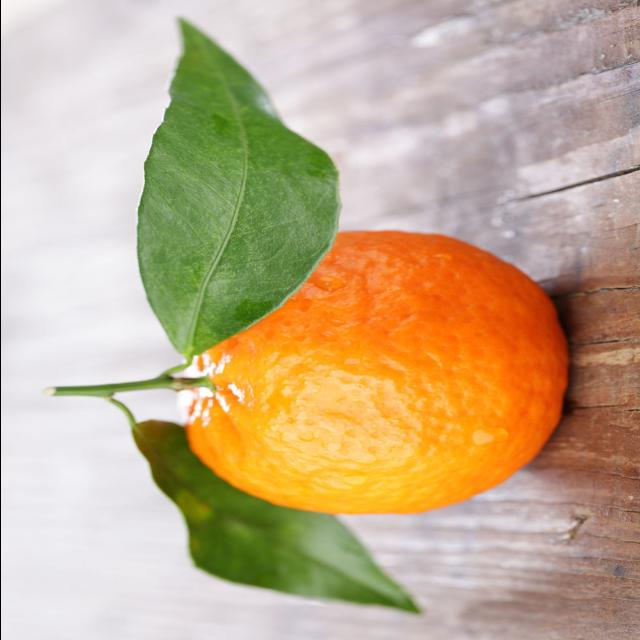Orange: (156, 214, 572, 520)
